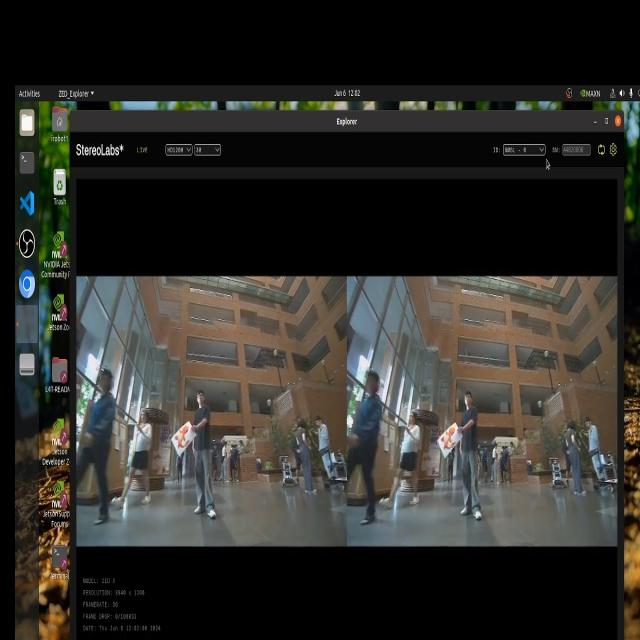red: (174, 426, 190, 452), (440, 426, 456, 450)
